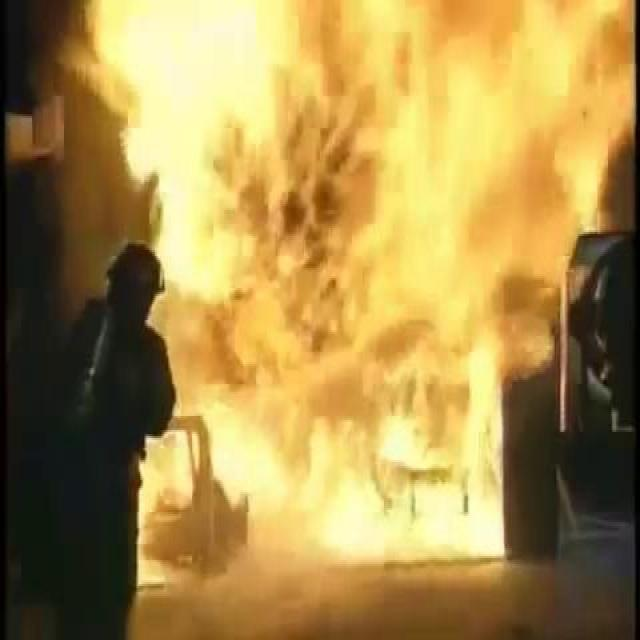Fire: (202, 156, 526, 584)
